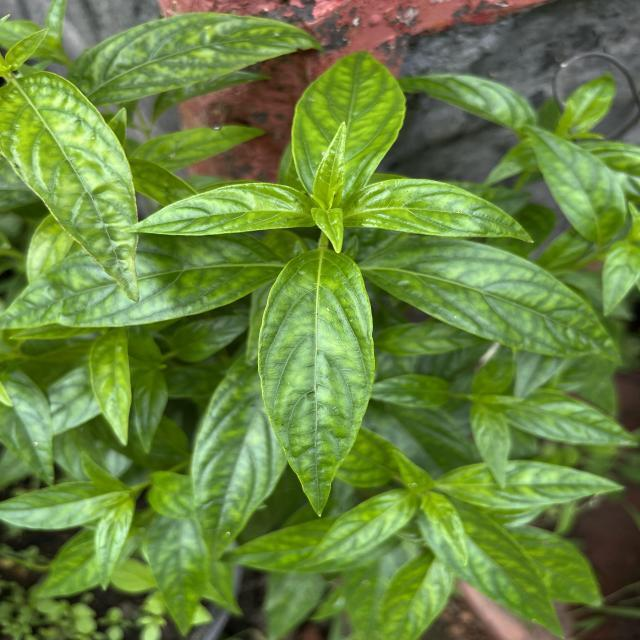Andrographis paniculata: (358, 236, 626, 366), (0, 69, 143, 304), (257, 245, 377, 522), (67, 10, 320, 107), (188, 350, 288, 564), (422, 495, 567, 640), (291, 48, 408, 193), (345, 177, 535, 247), (522, 123, 628, 244), (122, 180, 326, 238), (296, 488, 418, 570), (437, 458, 626, 509), (144, 508, 212, 637), (506, 388, 640, 448), (400, 74, 534, 132), (2, 369, 56, 485), (90, 327, 136, 449), (0, 480, 108, 531), (468, 404, 510, 489)
